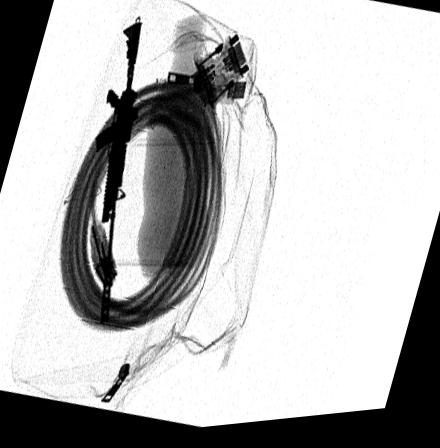Gun: (95, 22, 142, 330)
